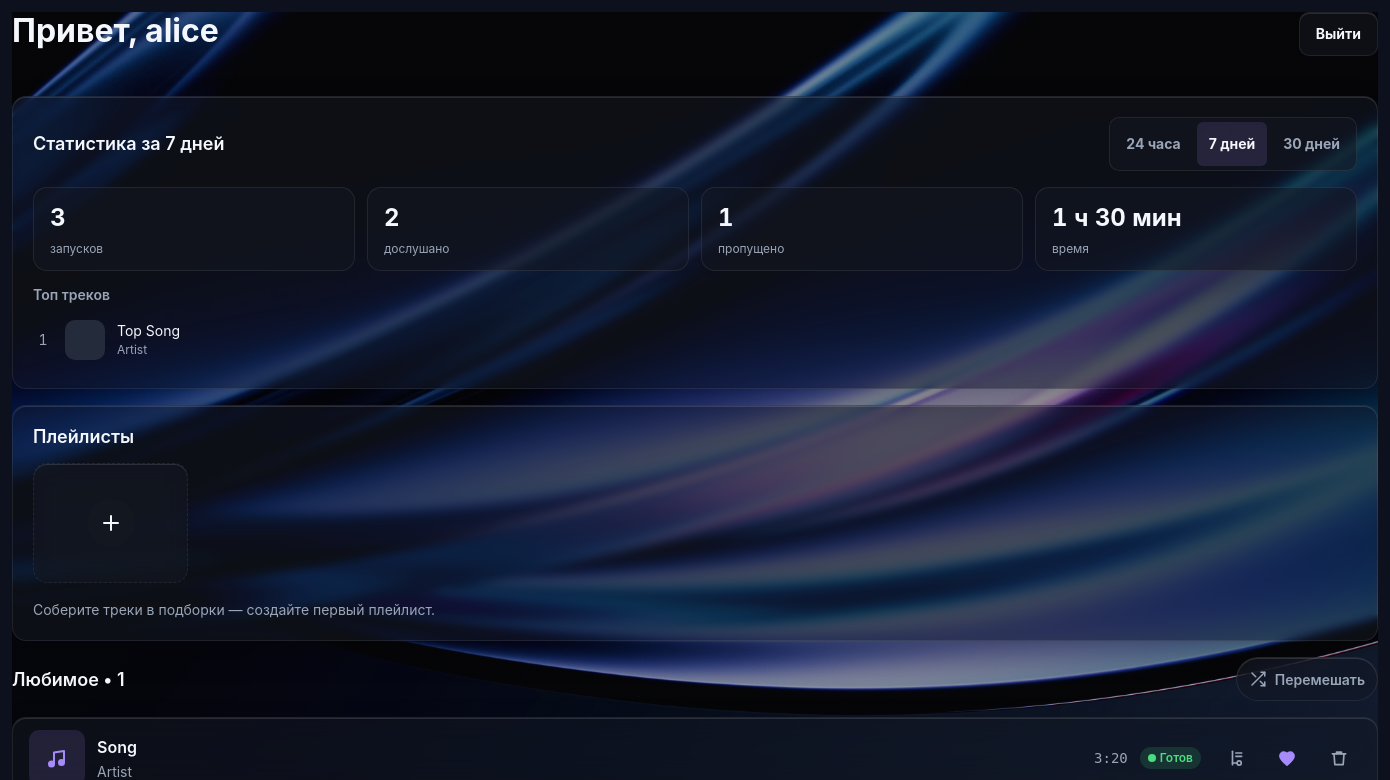
Test: ProfileView (личный кабинет) › switches the stats period and refetches immediately
Click the button with class "stats-period__option" showing "24 часа". click: (1154, 144)
box: top-left (1114, 122), bottom-right (1193, 166)
Wait 30000 ms
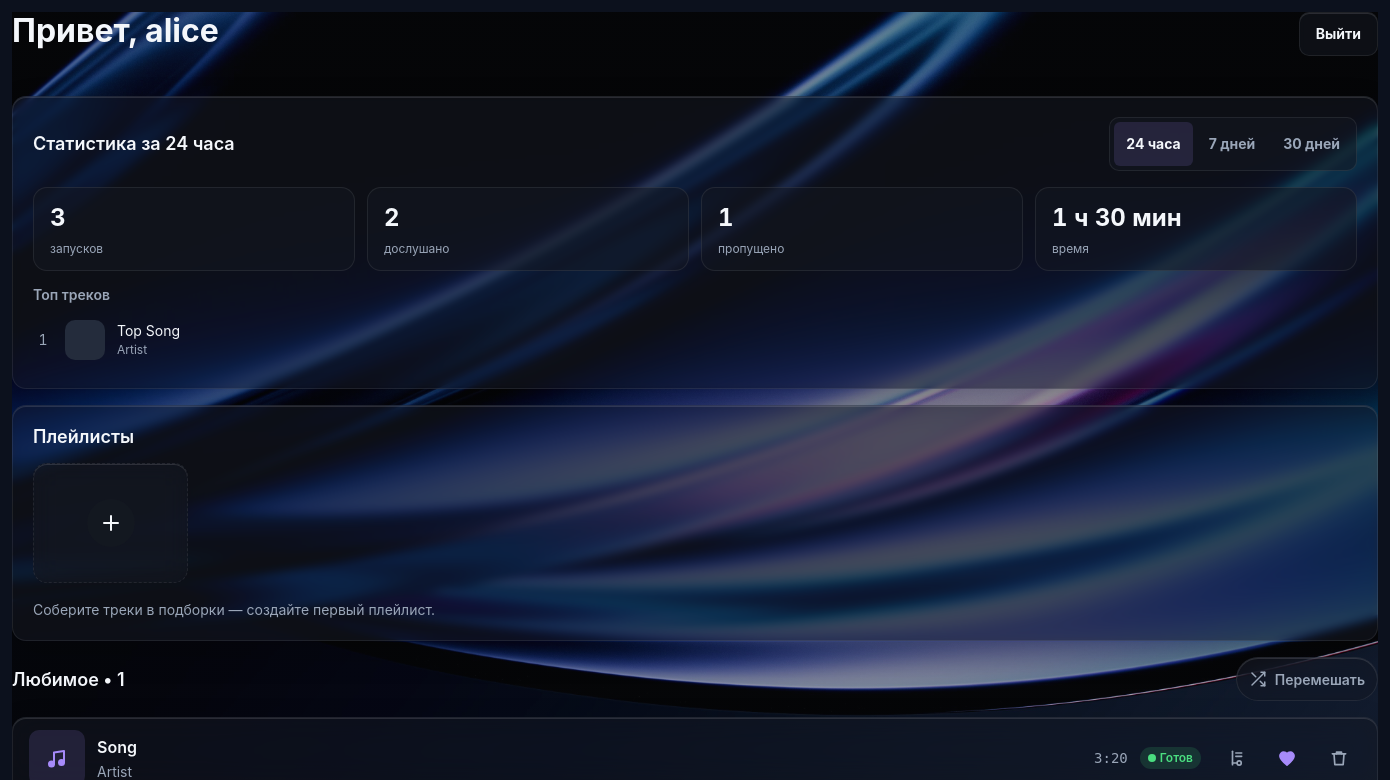
Result: the heading with id "settings-stats" reads "Статистика за 24 часа" at top-left (33, 133), bottom-right (235, 154)
